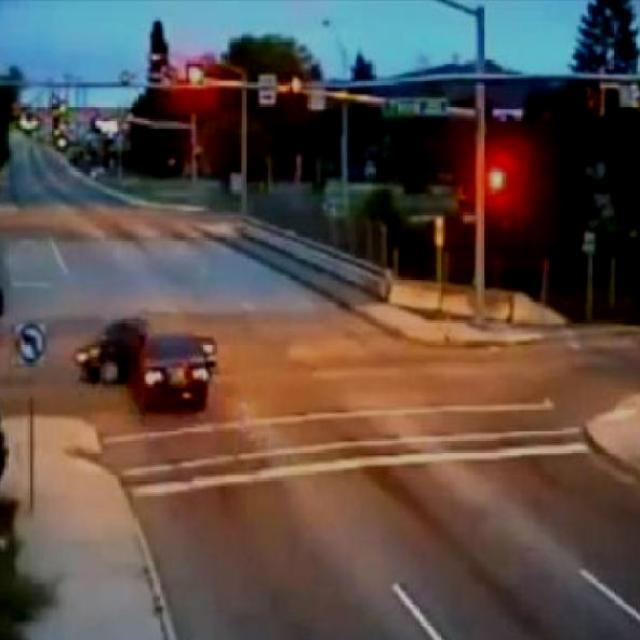accident: (68, 303, 234, 413)
